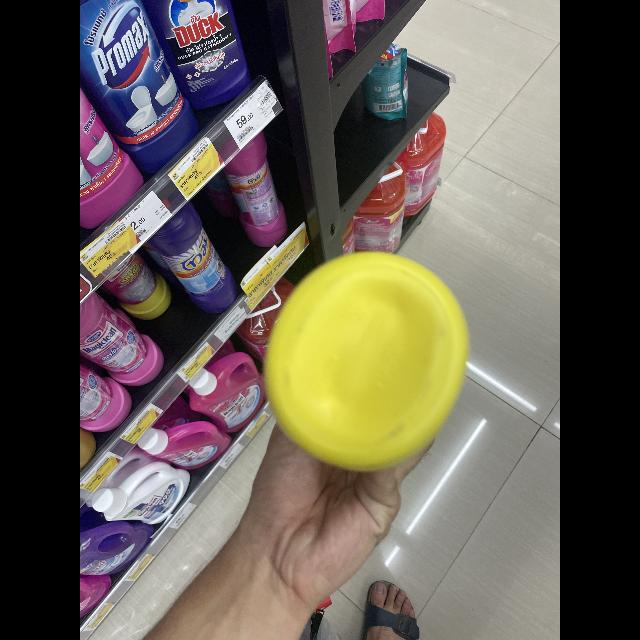chemical_plastic_bottle: (262, 240, 474, 478)
